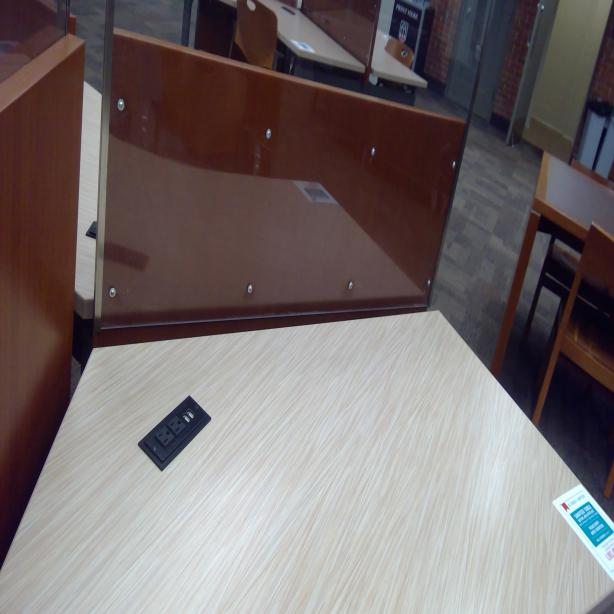typeb: (156, 427, 173, 451), (169, 414, 183, 432)
